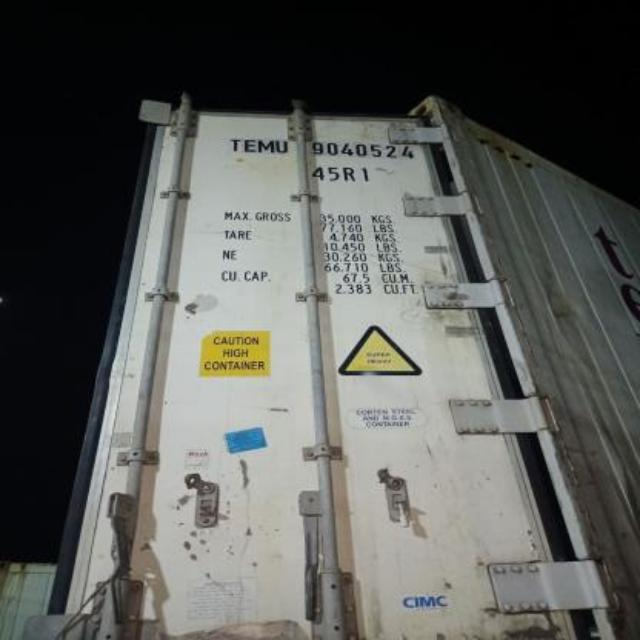0: (354, 142, 368, 158), (326, 142, 338, 156)
2: (382, 146, 398, 158)
4: (401, 145, 414, 161), (342, 142, 354, 156)
5: (370, 143, 384, 159)
9: (312, 142, 324, 154)
E: (244, 138, 258, 152)
M: (258, 138, 274, 152)
T: (228, 138, 242, 152)
U: (276, 140, 288, 154)
